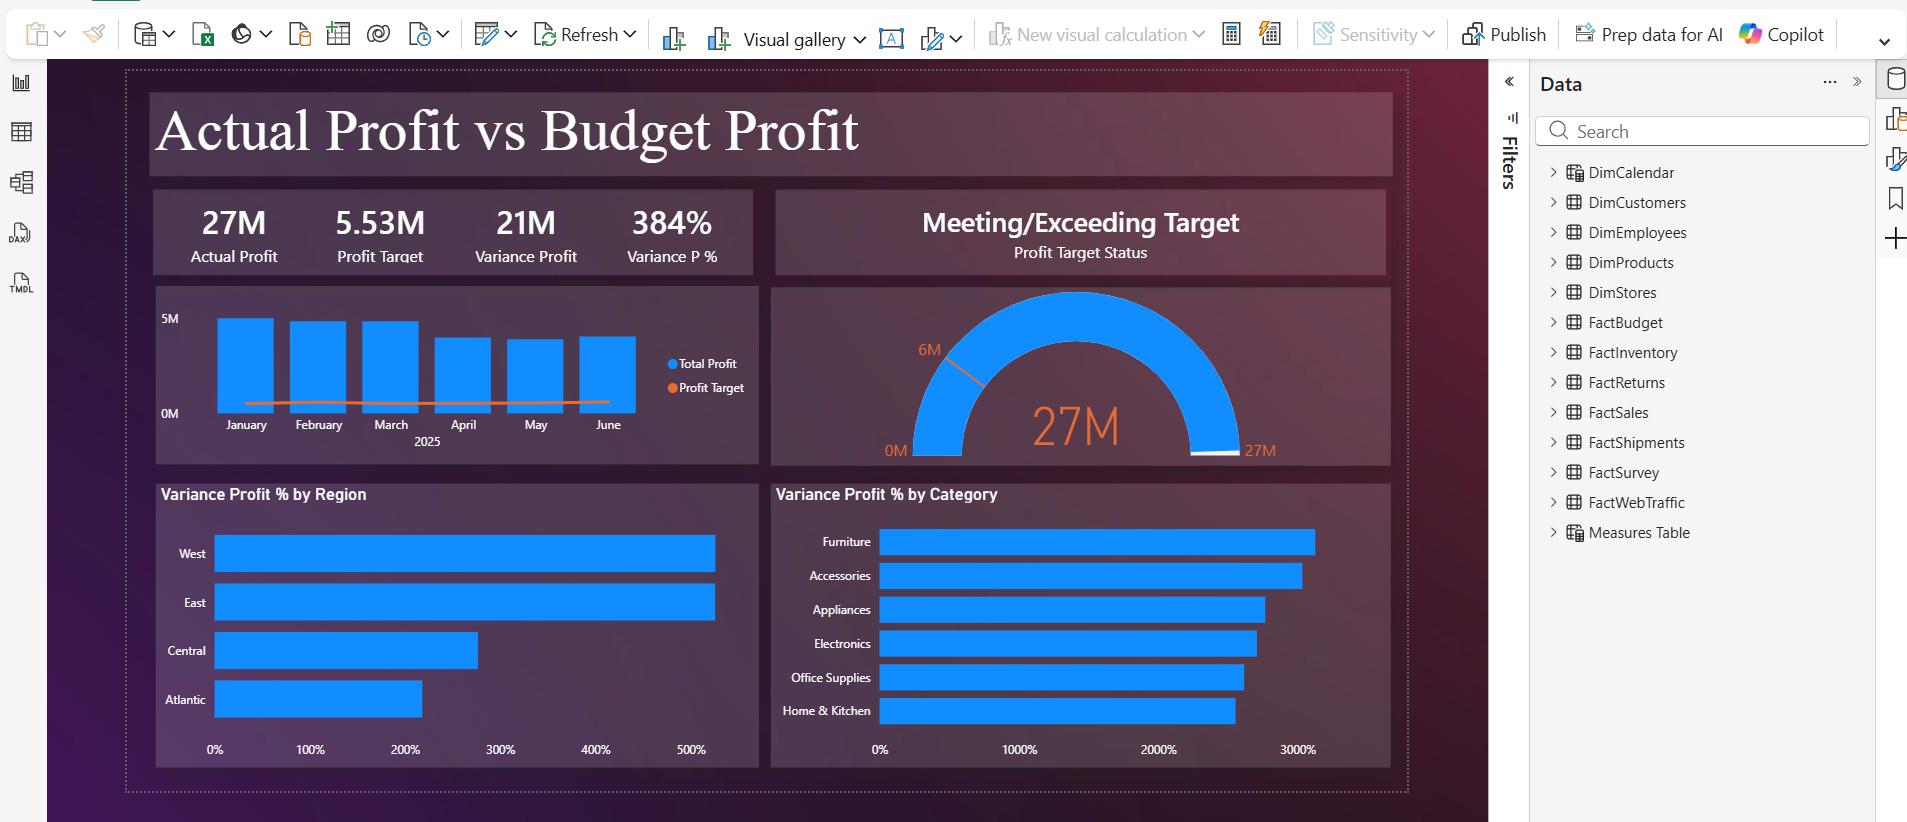

The dashboard page shown, as its layout file describes it:
{"tool":"powerbi","page":{"name":"Budget vs Actual Profit","canvas":[1280,720],"ordinal":6},"visuals":[{"type":"cardVisual","fields":{"Data":["Measures Table.Total Profit","Measures Table.Profit Target","Measures Table.Variance Profit","Measures Table.Variance Profit %"]},"box":[21.4,114.3,610,95.7],"z":0},{"type":"textbox","box":[22.9,21.4,1242.9,84.3],"z":1000},{"type":"cardVisual","fields":{"Data":["Measures Table.Profit Target Status"]},"box":[644.3,114.3,620,95.7],"z":2000},{"type":"lineClusteredColumnComboChart","title":"Actual Sale vs Target Sale","fields":{"Category":["DimCalendar.Date.Variation.Date Hierarchy.Year","DimCalendar.Date.Variation.Date Hierarchy.Month"],"Y":["Measures Table.Total Profit"],"Y2":["Measures Table.Profit Target"]},"box":[28.6,215.1,602.9,178.6],"z":3000},{"type":"gauge","title":"Actual Profit and Profit Target","fields":{"TargetValue":["Measures Table.Profit Target"],"Y":["Measures Table.Total Profit"]},"box":[644.3,215.7,620,178.6],"z":4000},{"type":"clusteredBarChart","fields":{"Y":["Measures Table.Variance Profit %"],"Category":["DimStores.Region"]},"box":[28.6,412.9,602.9,284.3],"z":5000},{"type":"clusteredBarChart","fields":{"Y":["Measures Table.Variance Profit %"],"Category":["FactBudget.Category"]},"box":[644.3,412.9,620,284.3],"z":6000}]}

Visuals, with their boxes on the page's 1280x720 design canvas (x1, y1, x2, y2). These are canvas units, not pixel positions in the 1907x822 screenshot, which may show the page scaled, cropped or inside an application window:
cardVisual - Measures Table.Total Profit x Measures Table.Profit Target: 21, 114, 631, 210
textbox: 23, 21, 1266, 106
cardVisual - Measures Table.Profit Target Status: 644, 114, 1264, 210
"Actual Sale vs Target Sale" lineClusteredColumnComboChart: 29, 215, 632, 394
"Actual Profit and Profit Target" gauge: 644, 216, 1264, 394
clusteredBarChart - Measures Table.Variance Profit % x DimStores.Region: 29, 413, 632, 697
clusteredBarChart - Measures Table.Variance Profit % x FactBudget.Category: 644, 413, 1264, 697
